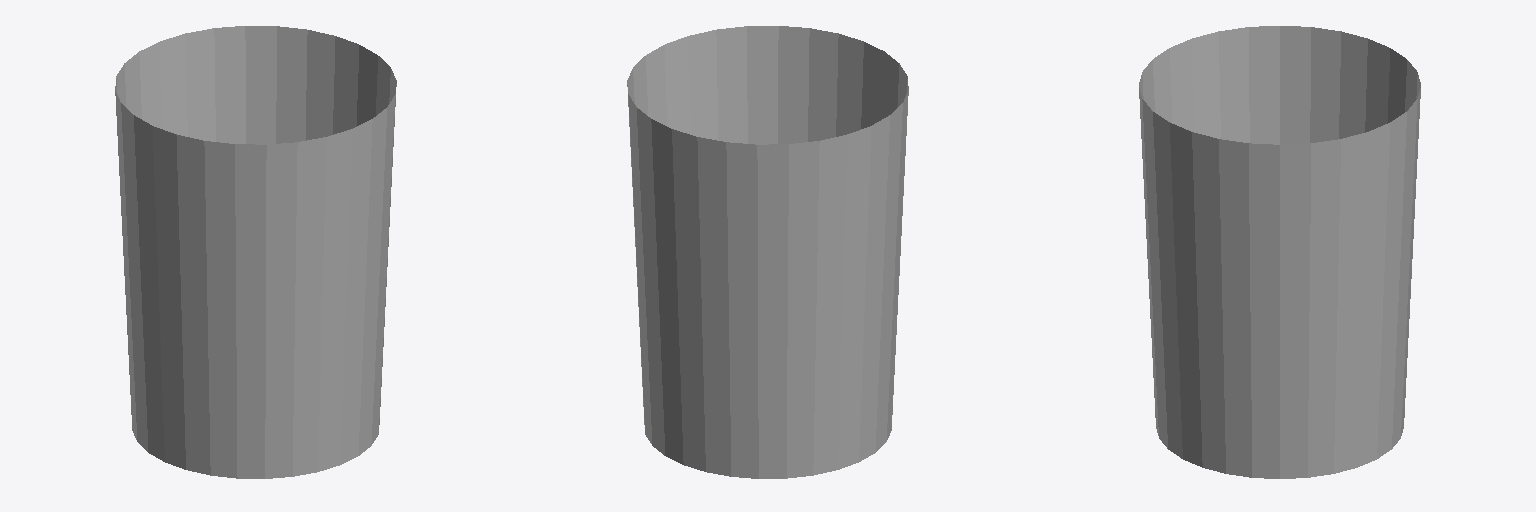
The model's file is Liquid.obj.
3 views of the same model, side by side, from view 1: azimuth 30°, elevation 25°; view 2: azimuth 150°, elevation 25°; view 3: azimuth 270°, elevation 25° (orthographic).
Visible parts, largest first — view 1: Liquido_LIQUID__base; view 2: Liquido_LIQUID__base; view 3: Liquido_LIQUID__base.
Boxes of the visible parts, box(x1,y1,x2,y2) form: Liquido_LIQUID__base: box(115, 26, 396, 478); Liquido_LIQUID__base: box(627, 26, 908, 478); Liquido_LIQUID__base: box(1139, 26, 1420, 478).
Bounding box in the file's own units: 179 × 240 × 179.